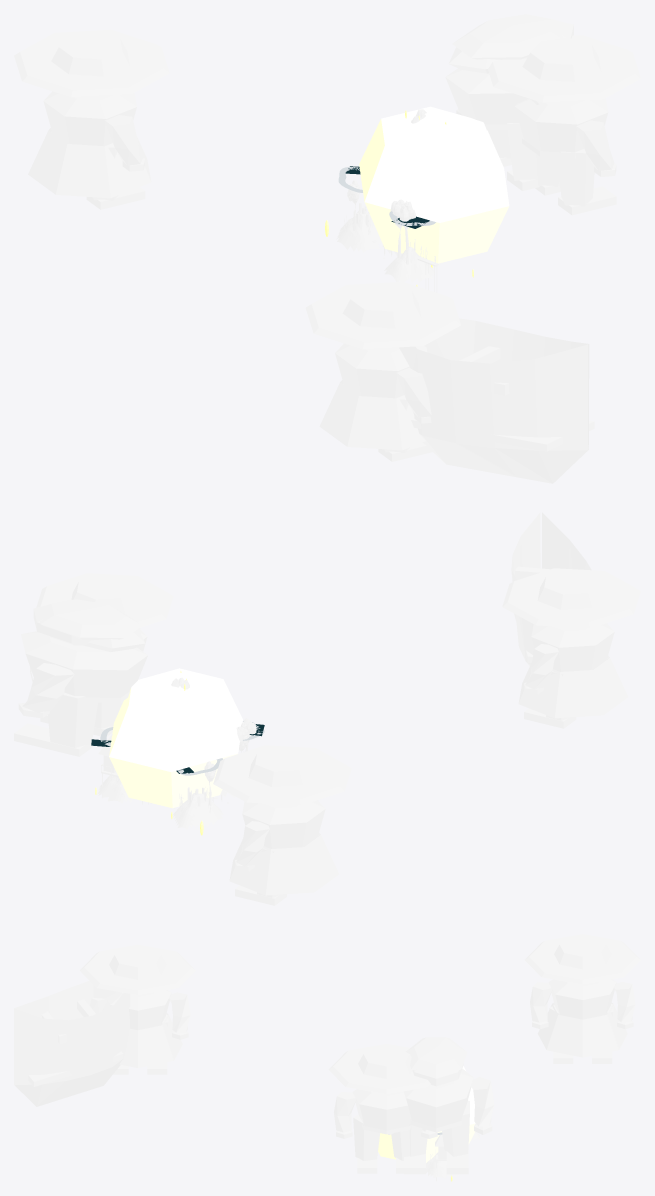
The model's file is ile-lucioles-v5.glb.
3 renders of one model, top to bottom at view 1: azimuth 30°, elevation 25°; view 2: azimuth 150°, elevation 25°; view 3: azimuth 270°, elevation 25°, orthographic. The views are drawn at different scales.
Parts seen in each view (by area): view 1: ile_anime0.007, ile_anime1.007, ile_lumieres.007, ile_copie0.004, ile_anime3.007, ile_anime2.007, ile_corps.007, ile_libre0.005; view 2: ile_copie0.004, ile_anime1.007, ile_anime2.007, ile_lumieres.007, ile_anime3.007, ile_anime0.007, ile_corps.007, ile_libre0.005; view 3: ile_anime1.007, ile_anime0.007, ile_copie0.004, ile_anime3.007, ile_anime2.007, ile_lumieres.007, ile_corps.007.
Part boxes in pixels (bbox=[...]): ile_anime0.007: bbox=[399, 318, 594, 483]; ile_anime1.007: bbox=[14, 29, 169, 209]; ile_lumieres.007: bbox=[325, 106, 509, 286]; ile_copie0.004: bbox=[305, 282, 460, 461]; ile_anime3.007: bbox=[488, 35, 640, 215]; ile_anime2.007: bbox=[445, 14, 595, 190]; ile_corps.007: bbox=[336, 109, 464, 292]; ile_libre0.005: bbox=[338, 166, 435, 228]; ile_copie0.004: bbox=[502, 568, 640, 728]; ile_anime1.007: bbox=[213, 745, 351, 905]; ile_anime2.007: bbox=[14, 599, 147, 756]; ile_lumieres.007: bbox=[95, 668, 242, 835]; ile_anime3.007: bbox=[36, 573, 173, 708]; ile_anime0.007: bbox=[511, 512, 591, 666]; ile_corps.007: bbox=[98, 677, 256, 829]; ile_libre0.005: bbox=[91, 721, 264, 775]; ile_anime1.007: bbox=[525, 934, 640, 1063]; ile_anime0.007: bbox=[14, 981, 130, 1106]; ile_copie0.004: bbox=[80, 944, 195, 1074]; ile_anime3.007: bbox=[328, 1044, 437, 1173]; ile_anime2.007: bbox=[388, 1037, 494, 1174]; ile_lumieres.007: bbox=[378, 1066, 475, 1181]; ile_corps.007: bbox=[426, 1131, 479, 1181].
Size of the model in its own units: 7.04 by 2.79 by 10.77.
